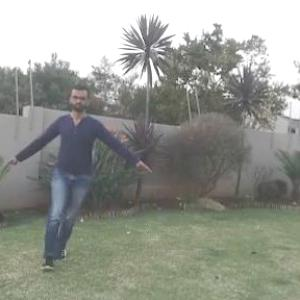land: (21, 87, 150, 246)
